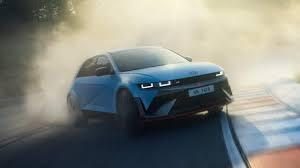Honda Ioniq: (64, 40, 244, 136)
